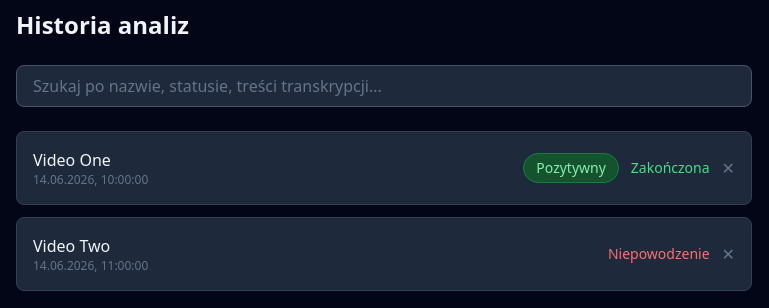
Test case: HistoryPage › removes an analysis from history and from localStorage
Expected: the text "Video One" is shown, [33,149,111,171]
Click the button named "Usuń z historii".
click(728, 168)  # box [722,156,735,180]
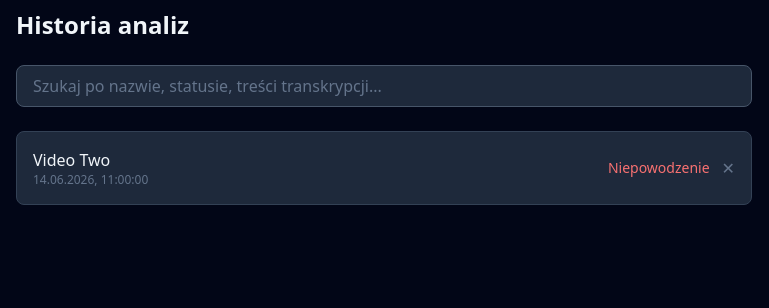
Expected: the link "Video One" is gone
